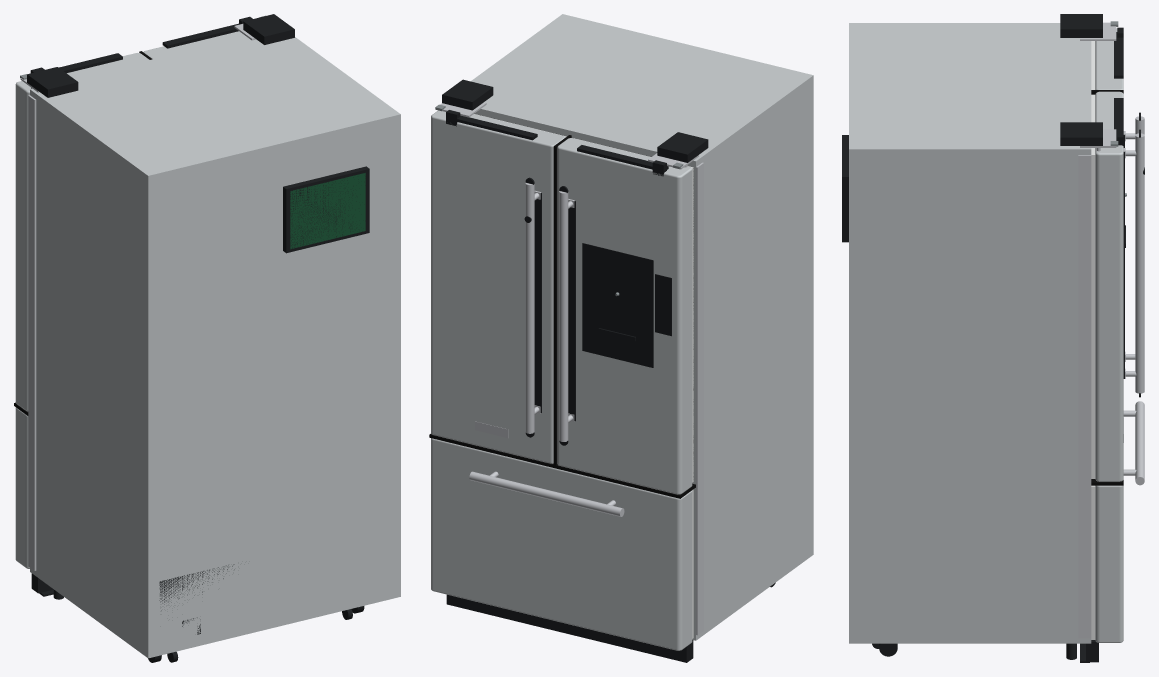
File: LFXS27566S_closed.glb
3 renders of one model, left to right at view 1: azimuth 30°, elevation 25°; view 2: azimuth 150°, elevation 25°; view 3: azimuth 270°, elevation 25°, orthographic. The views are drawn at different scales.
Parts seen in each view (by area): view 1: shell.004 Cabinet back panel + rear insulation [â] (D), shell.001 Cabinet side panel L [â] (C), shell.003 Cabinet top panel [â] (C), doors.044 Left refrigerator door slab (PCM stainless, foam) , mech.197 Main PCB in case [EBR74796443] (C), base.018 Decor panel L [ACW73717312] (C), shell.002 Cabinet side panel R [â] (C), mech.224 PCB cover / case (outer) [MCK67464101] (C), doors.117 Freezer drawer front (foam, stainless) [ADC7392810, base.022 Hinge cover R [ACQ86664715] (C), base.013 Hinge cover L [ACQ86274031] (C), doors.091 Right refrigerator door slab (PCM stainless, foam) (+2 smaller); view 2: shell.001 Cabinet side panel L [â] (C), doors.117 Freezer drawer front (foam, stainless) [ADC7392810, doors.091 Right refrigerator door slab (PCM stainless, foam), doors.044 Left refrigerator door slab (PCM stainless, foam) , shell.003 Cabinet top panel [â] (C), shell.004 Cabinet back panel + rear insulation [â] (D), doors.068 Dispenser cover frame [MCK62965301] (C), base.018 Decor panel L [ACW73717312] (C), base.009 Toe grille / lower cover [ACQ85891302] (P), doors.047 Bar handle L + studs (2.5 in protrusion) [AED73593, doors.094 Bar handle R + studs (2.5 in protrusion) [AED73593, doors.054 Decor handle cover L [MCR64995701] (C) (+11 smaller); view 3: shell.002 Cabinet side panel R [â] (C), shell.003 Cabinet top panel [â] (C), shell.004 Cabinet back panel + rear insulation [â] (D), doors.091 Right refrigerator door slab (PCM stainless, foam), base.027 Decor panel R [ACW73717317] (C), doors.117 Freezer drawer front (foam, stainless) [ADC7392810, doors.094 Bar handle R + studs (2.5 in protrusion) [AED73593, doors.092 Door liner R [â] (P), shell.005 Cabinet floor [â] (P), shell.001 Cabinet side panel L [â] (C), doors.044 Left refrigerator door slab (PCM stainless, foam) , base.013 Hinge cover L [ACQ86274031] (C) (+5 smaller).
Boxes of the visible parts, x1,y1,x2,y2 form: shell.004 Cabinet back panel + rear insulation [â] (D): [122, 95, 400, 657]; shell.001 Cabinet side panel L [â] (C): [30, 88, 160, 657]; shell.003 Cabinet top panel [â] (C): [30, 36, 400, 184]; doors.044 Left refrigerator door slab (PCM stainless, foam) : [15, 53, 149, 411]; mech.197 Main PCB in case [EBR74796443] (C): [290, 173, 365, 249]; base.018 Decor panel L [ACW73717312] (C): [28, 95, 36, 570]; shell.002 Cabinet side panel R [â] (C): [284, 37, 400, 596]; mech.224 PCB cover / case (outer) [MCK67464101] (C): [283, 166, 369, 253]; doors.117 Freezer drawer front (foam, stainless) [ADC7392810: [15, 407, 29, 568]; base.022 Hinge cover R [ACQ86664715] (C): [243, 14, 294, 44]; base.013 Hinge cover L [ACQ86274031] (C): [27, 67, 78, 97]; doors.091 Right refrigerator door slab (PCM stainless, foam): [143, 31, 245, 58]; shell.001 Cabinet side panel L [â] (C): [687, 72, 813, 640]; doors.117 Freezer drawer front (foam, stainless) [ADC7392810: [431, 438, 692, 650]; doors.091 Right refrigerator door slab (PCM stainless, foam): [431, 110, 565, 463]; doors.044 Left refrigerator door slab (PCM stainless, foam) : [557, 138, 692, 494]; shell.003 Cabinet top panel [â] (C): [472, 14, 812, 170]; shell.004 Cabinet back panel + rear insulation [â] (D): [538, 14, 813, 573]; doors.068 Dispenser cover frame [MCK62965301] (C): [582, 243, 653, 367]; base.018 Decor panel L [ACW73717312] (C): [696, 162, 703, 635]; base.009 Toe grille / lower cover [ACQ85891302] (P): [446, 594, 693, 662]; doors.047 Bar handle L + studs (2.5 in protrusion) [AED73593: [559, 191, 573, 441]; doors.094 Bar handle R + studs (2.5 in protrusion) [AED73593: [525, 183, 539, 433]; doors.054 Decor handle cover L [MCR64995701] (C): [568, 201, 575, 421]; shell.002 Cabinet side panel R [â] (C): [849, 143, 1091, 643]; shell.003 Cabinet top panel [â] (C): [849, 23, 1091, 159]; shell.004 Cabinet back panel + rear insulation [â] (D): [849, 23, 902, 643]; doors.091 Right refrigerator door slab (PCM stainless, foam): [1095, 91, 1123, 481]; base.027 Decor panel R [ACW73717317] (C): [1078, 155, 1091, 638]; doors.117 Freezer drawer front (foam, stainless) [ADC7392810: [1095, 485, 1123, 642]; doors.094 Bar handle R + studs (2.5 in protrusion) [AED73593: [1125, 133, 1144, 393]; doors.092 Door liner R [â] (P): [1091, 94, 1095, 478]; shell.005 Cabinet floor [â] (P): [849, 637, 1091, 643]; shell.001 Cabinet side panel L [â] (C): [849, 23, 1060, 29]; doors.044 Left refrigerator door slab (PCM stainless, foam) : [1095, 28, 1123, 89]; base.013 Hinge cover L [ACQ86274031] (C): [1060, 14, 1102, 37].
Bounding box in the file's own units: 920 × 1772 × 921.
